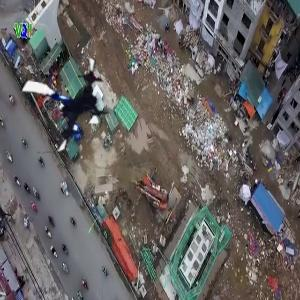drone: (10, 50, 119, 159)
